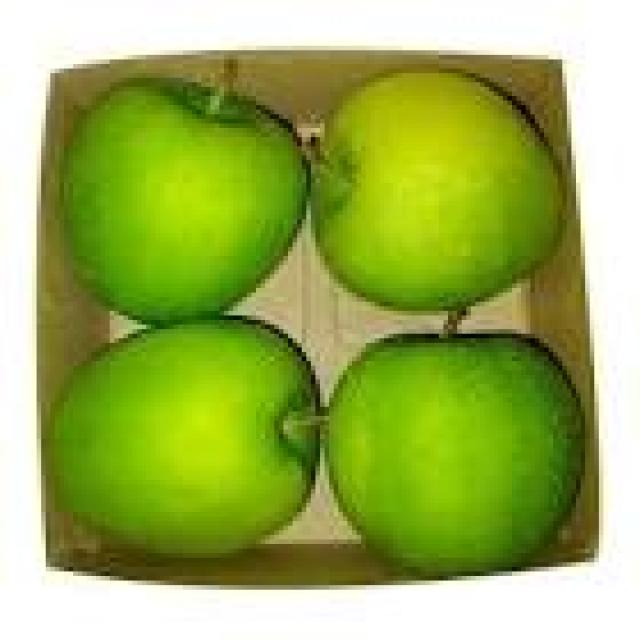apple: (46, 320, 319, 557), (325, 334, 585, 575), (60, 78, 306, 324), (311, 69, 562, 310)
